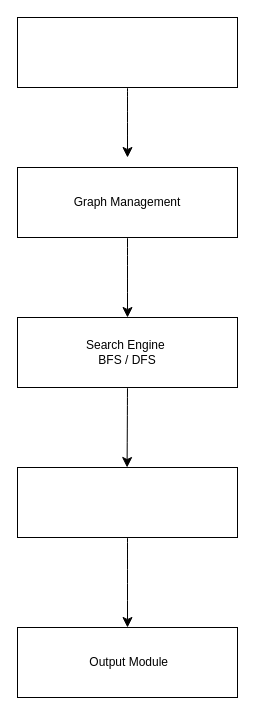
The diagram is 255 pixels wide and 715 high, and some of its shapes have lost their labels. Each missing label, with the box of its shape:
Input Module: (16, 16, 238, 88)
Visited / Memory: (16, 466, 238, 538)
